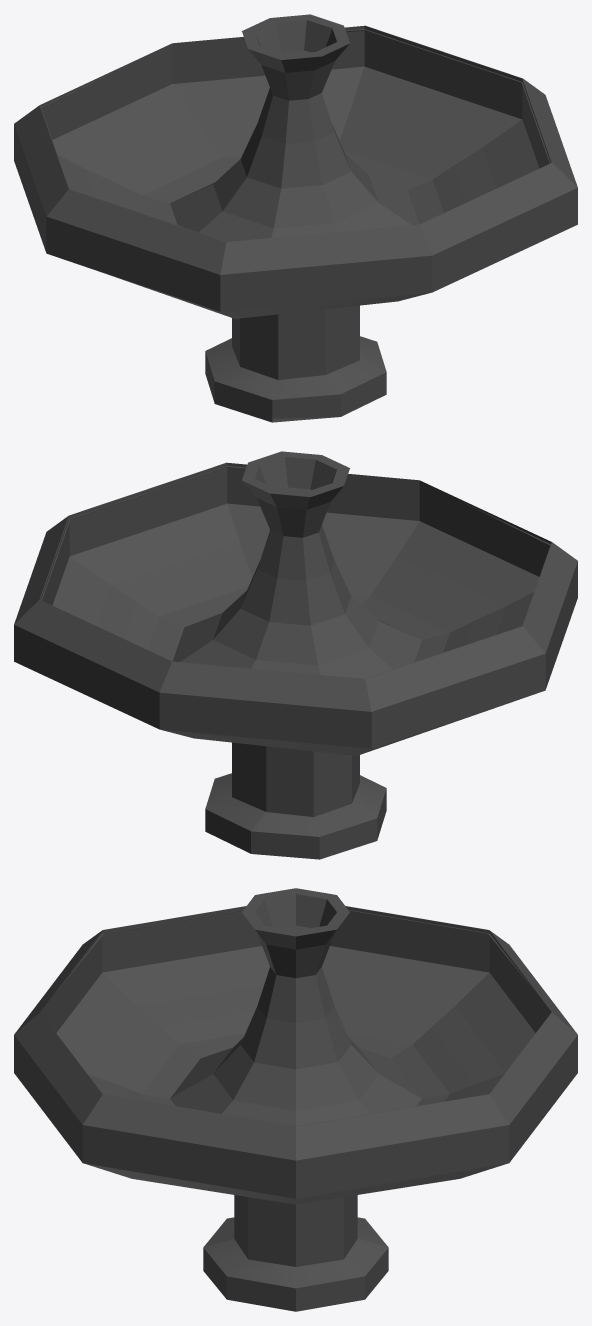
The model's file is fountain_Broken.fbx.
The picture shows the model from 3 angles, top to bottom: view 1: azimuth 30°, elevation 25°; view 2: azimuth 150°, elevation 25°; view 3: azimuth 270°, elevation 25°; orthographic projection. The views are drawn at different scales.
Parts seen in each view (by area): view 1: polySurface221, polySurface220; view 2: polySurface221, polySurface220; view 3: polySurface220, polySurface221.
Boxes of the visible parts, x1,y1,x2,y2 form: polySurface221: (14,18,432,420); polySurface220: (172,14,577,422); polySurface221: (159,455,577,859); polySurface220: (14,451,419,859); polySurface220: (14,912,577,1311); polySurface221: (15,888,576,1246).
Bounding box in the file's own units: 3.46 × 2.3 × 3.28.
